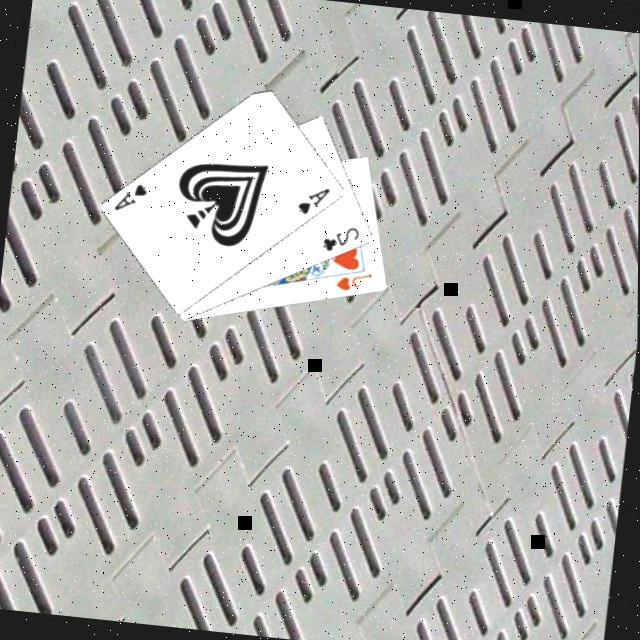2C: (320, 221, 365, 258)
AS: (112, 178, 154, 218), (296, 182, 336, 221)
JH: (334, 267, 376, 297)
